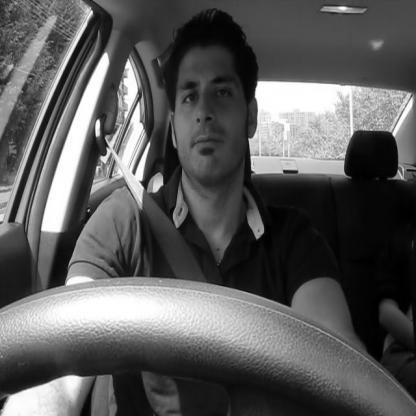seatbelt: (87, 1, 264, 298)
